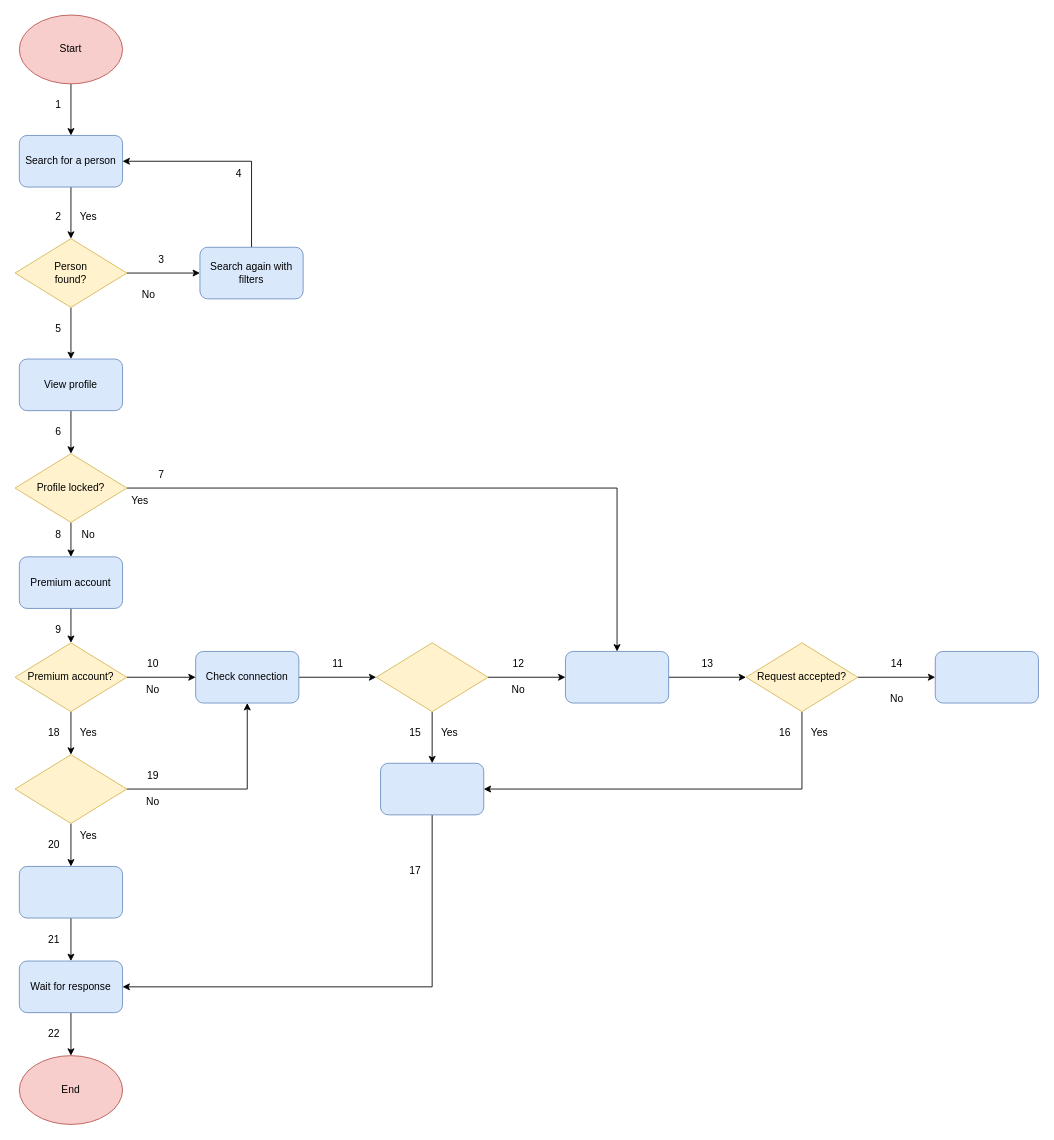
The diagram is 1054 pixels wide and 1140 high, and some of its shapes have lost their labels. Each missing label, with the centre of its shape:
Already connected?: [431,677]
Send connection request: [617,677]
Send InMail: [70,892]
Send text message/attachment: [432,788]
Text message?: [70,788]
Wait: [986,677]
